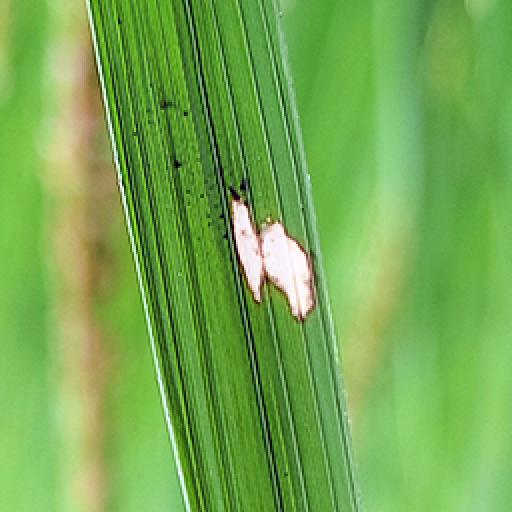Bacterial Leaf Blight: (136, 2, 366, 510)
